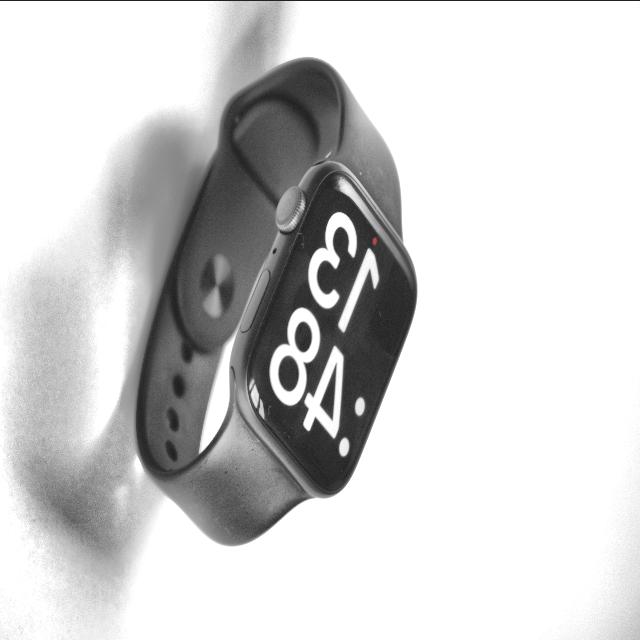Electronic watch: (135, 59, 417, 545)
